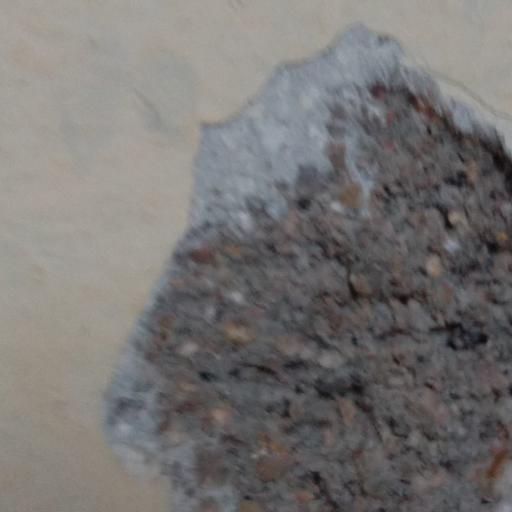spalling: (83, 41, 512, 511)
